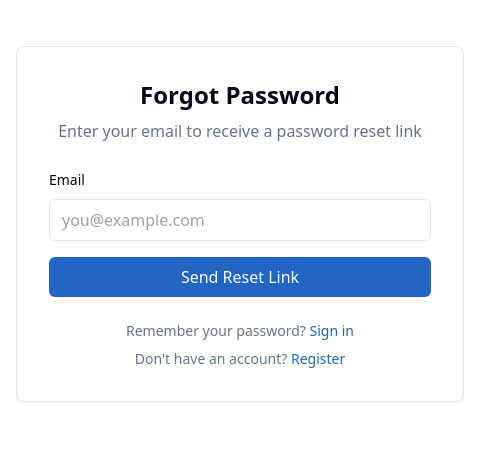
Scenario: ForgotPassword Page › should display error on request failure
Type "test@example.com" into the field labelled "Email".
click(240, 220); type("test@example.com")  # box [49, 199, 431, 241]
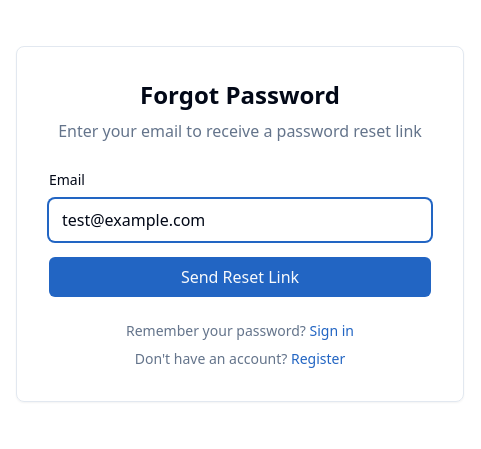
Click the button "Send Reset Link".
click(240, 277)  # box [49, 257, 431, 297]
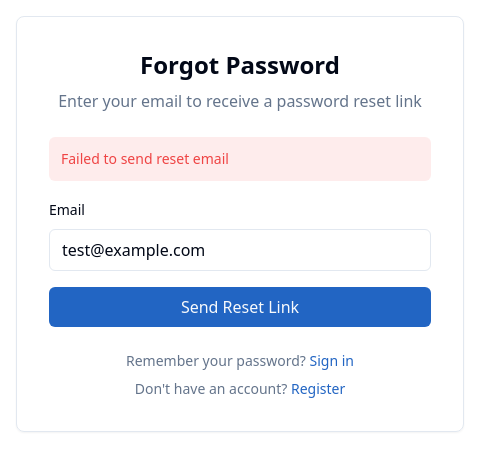
Result: the text "Failed to send reset email" is shown at [49, 137, 431, 181]
